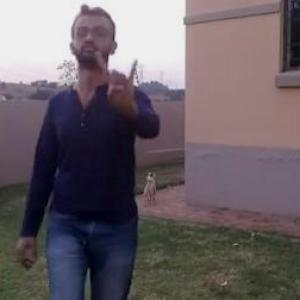takeoff-hand: (94, 47, 144, 116)
